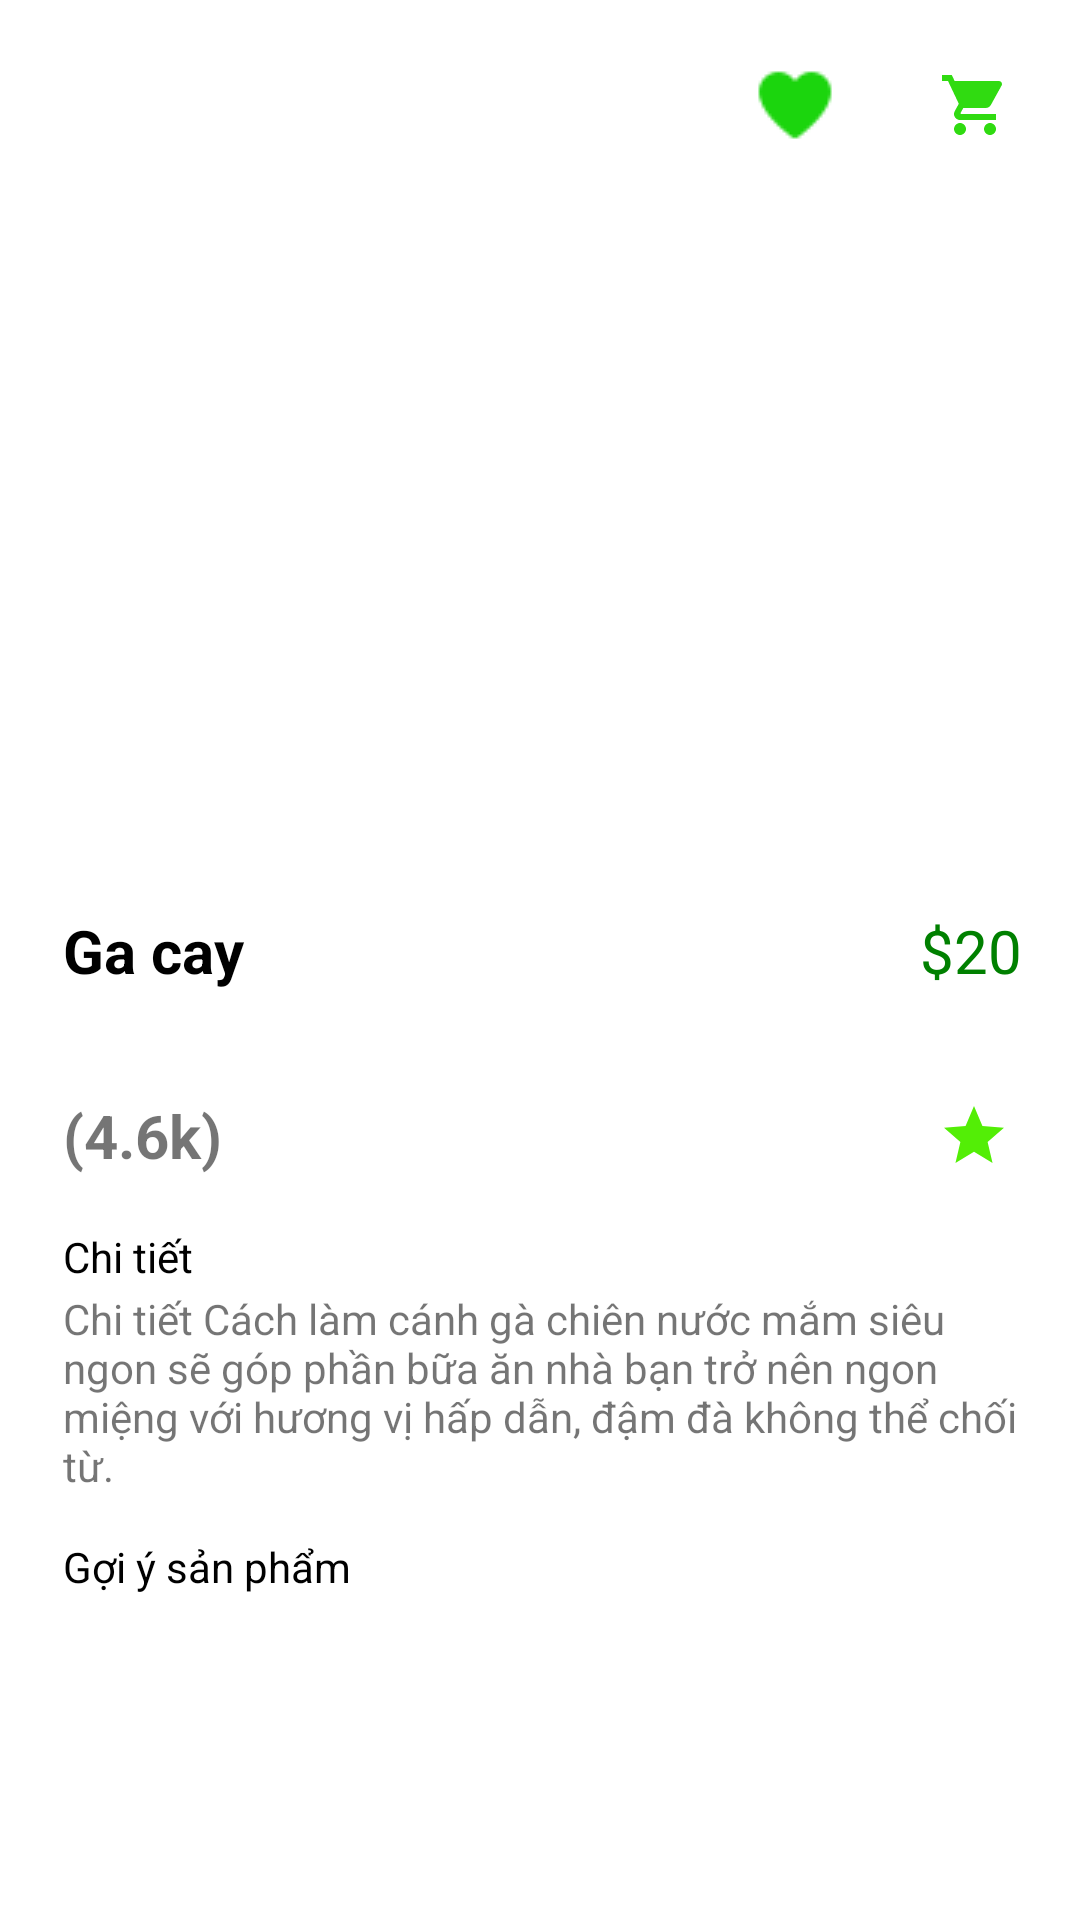

Point at icon controls on the screen. Image size 1080x1920, points as point (x, y).
heart: point (795, 105)
shopping cart: point (972, 105)
star: point (974, 1134)
